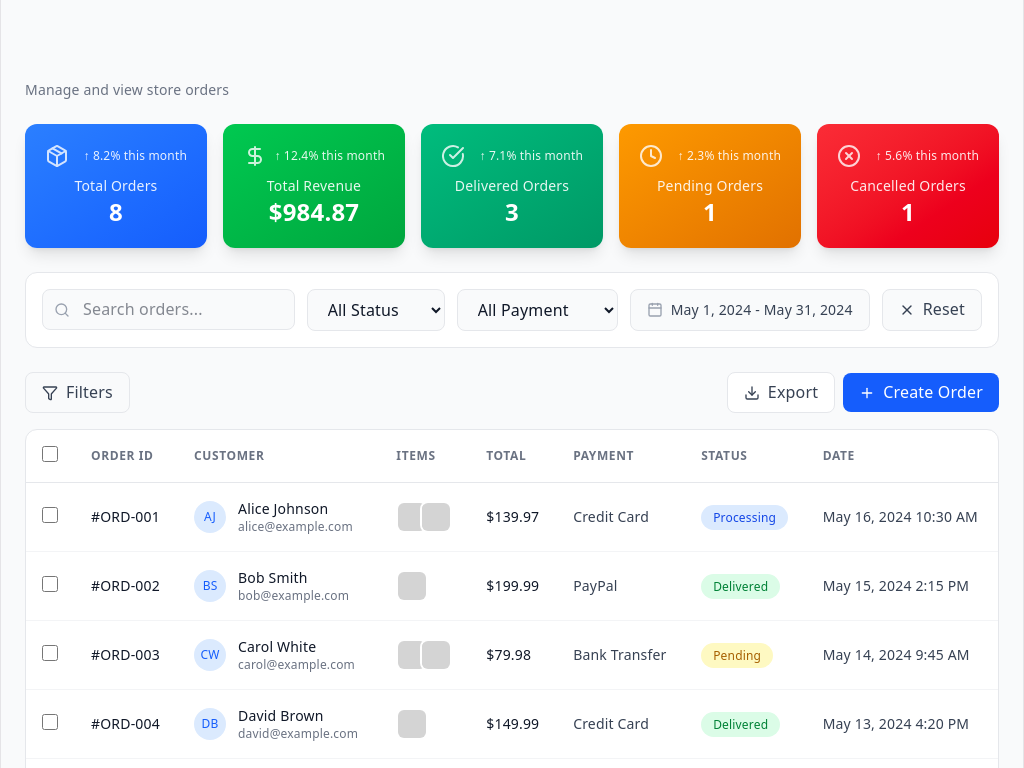
Scenario: Orders › should reset filters when reset button is clicked
Expected: the text "#ORD-001" is shown, [91, 507, 160, 526]
Type "ORD-001" into the field with placeholder "Search orders...". click: (168, 310)
box: [42, 289, 295, 330]
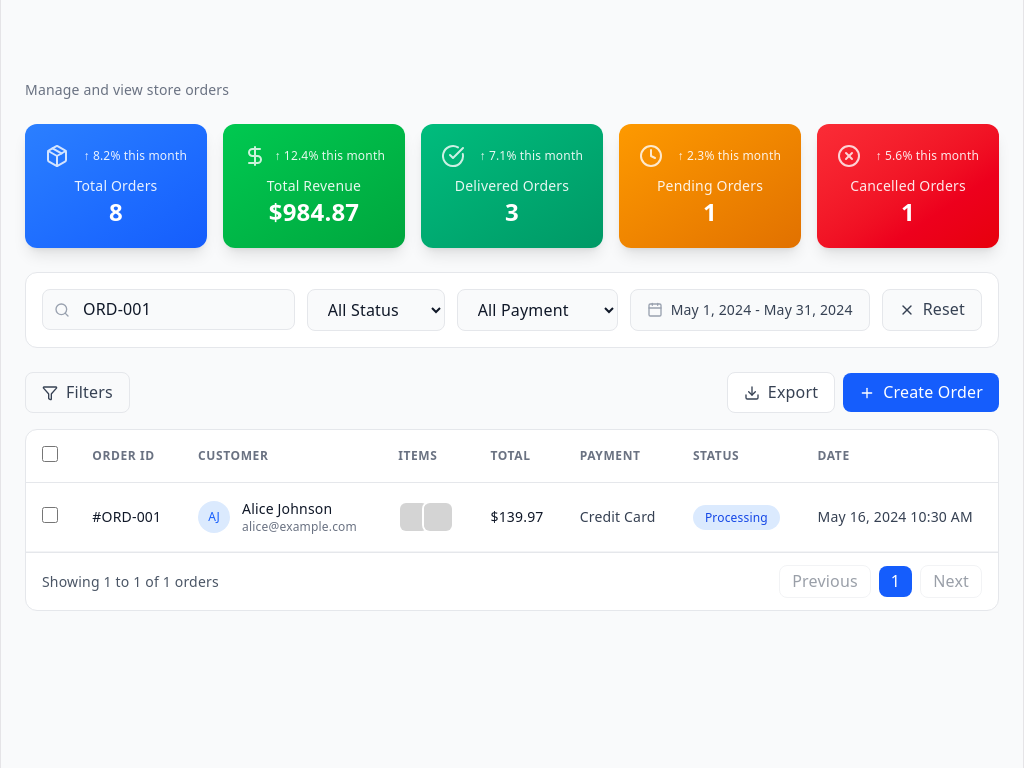
Click the button "Reset". click: (932, 310)
box: [882, 289, 982, 331]
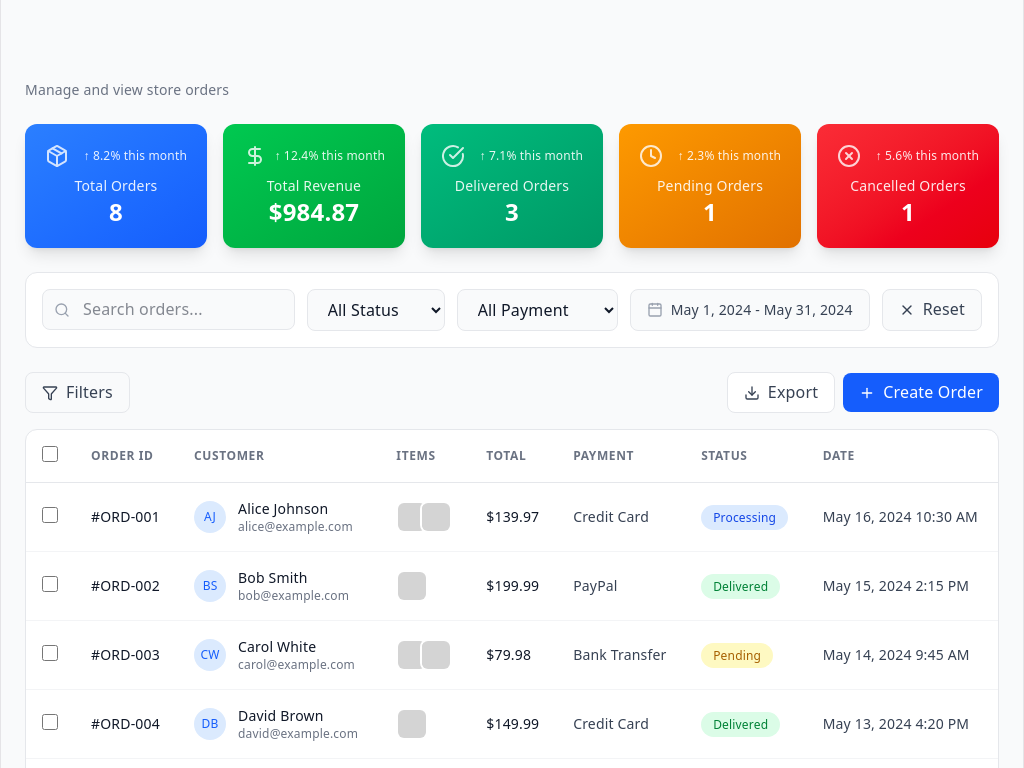
Now the field with placeholder "Search orders..." is empty, box [42, 289, 295, 330]
